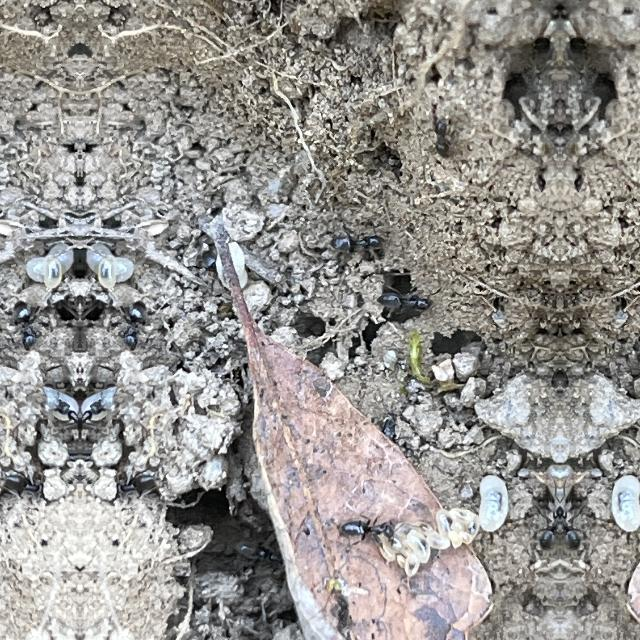Tapinoma: (41, 378, 80, 460), (80, 378, 118, 460), (337, 504, 401, 552), (376, 277, 436, 323), (326, 218, 386, 264), (238, 534, 292, 580), (116, 296, 152, 358), (8, 296, 44, 358), (112, 463, 158, 505), (2, 463, 48, 505), (533, 486, 559, 558), (561, 486, 587, 558), (430, 112, 454, 160)
